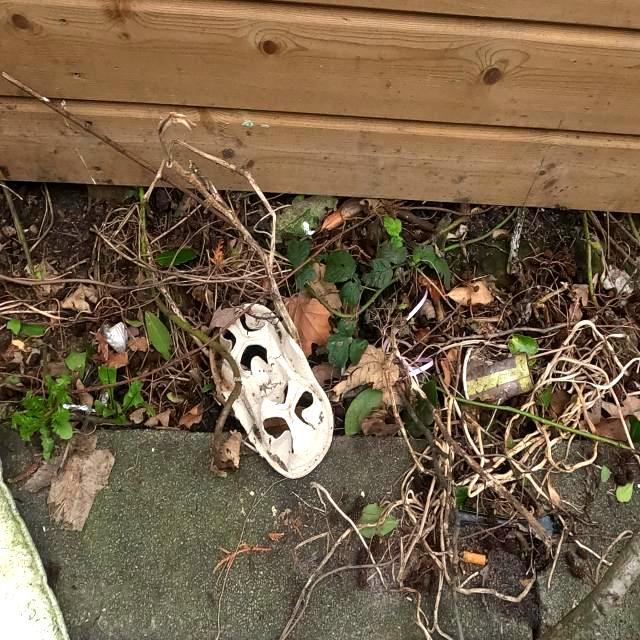Paper: (217, 300, 335, 482)
Plastic: (464, 343, 538, 407)
